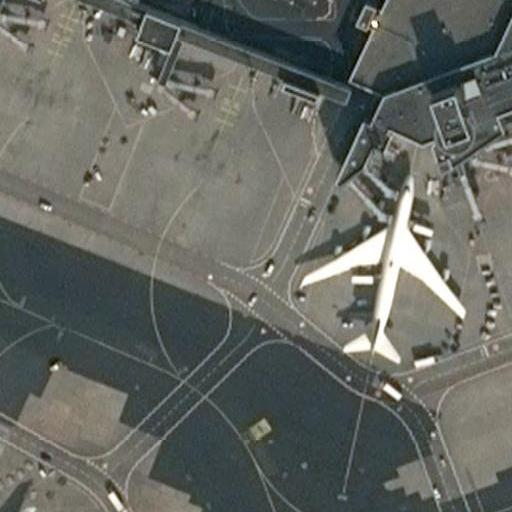Aircraft: (294, 162, 472, 370), (0, 499, 110, 512)
